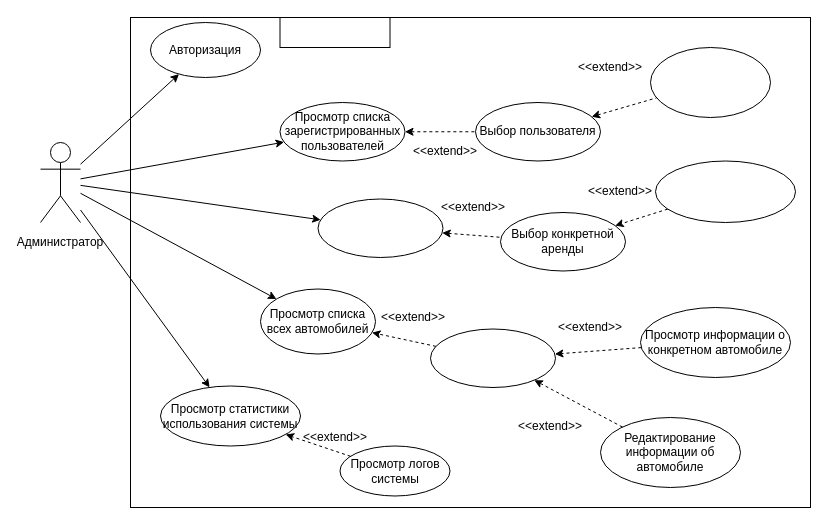
This 828x525 diagram has some shape labels left out. The centre of each missing label's shape, as x and y in pixels:
"Выбор конкретного автомобиля" belongs at [493,358].
"Изменение данных аккаунта пользователя" belongs at [710,82].
"Просмотр информации о конкретной аренде" belongs at [725,191].
"Просмотр списка аренд" belongs at [380,228].
"Система аренды автомобилей" belongs at [334,32].
